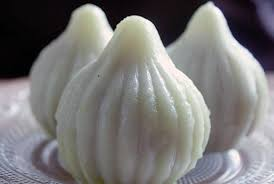modak: (58, 18, 211, 184), (155, 3, 274, 149), (25, 2, 128, 141)
